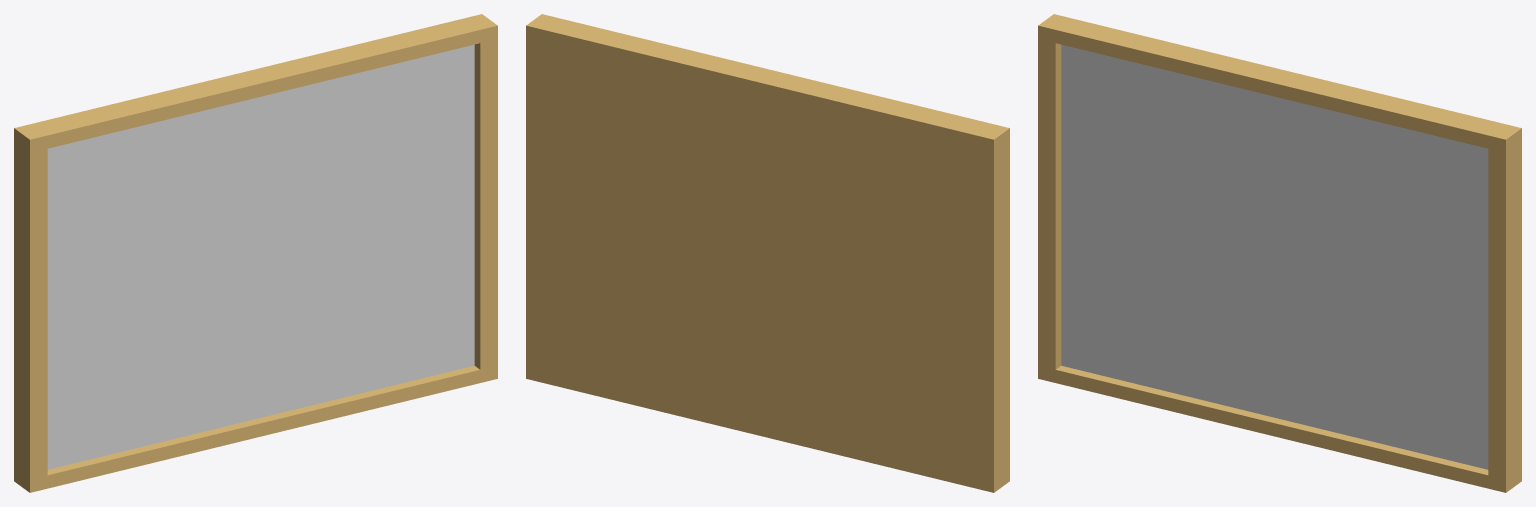
File: Painting1.fbx
The picture shows the model from 3 angles, left to right: view 1: azimuth 30°, elevation 25°; view 2: azimuth 150°, elevation 25°; view 3: azimuth 330°, elevation 25°; orthographic projection.
Parts seen in each view (by area): view 1: Painting_1; view 2: Painting_1; view 3: Painting_1.
Part boxes in pixels (box(x1,y1,x2,y2)): Painting_1: box(14, 14, 497, 492); Painting_1: box(526, 14, 1009, 492); Painting_1: box(1038, 14, 1521, 492).
Bounding box in the file's own units: 162 × 117 × 9.52.
